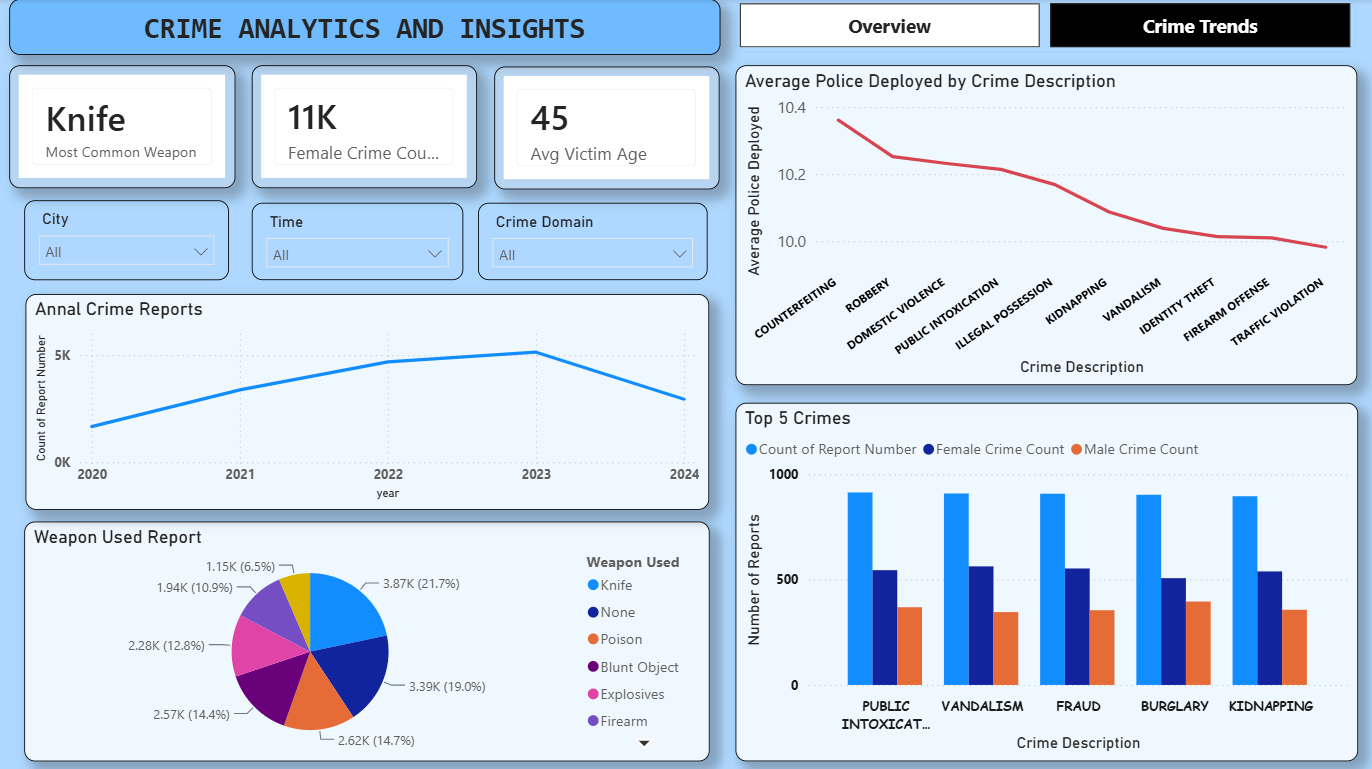

Layout of this report page (visuals, bound fields, positions):
{"tool":"powerbi","page":{"name":"Crime Trends","canvas":[1280,720],"ordinal":1},"visuals":[{"type":"pageNavigator","box":[686.4,0,577.2,49.7],"z":0},{"type":"textbox","box":[9.9,0,661.6,52.1],"z":1000},{"type":"cardVisual","fields":{"Data":["crime_dataset_india.Female Crime Count"]},"box":[273.1,62.1,237.1,109.2],"z":2000},{"type":"slicer","fields":{"Values":["crime_dataset_india.City"]},"box":[24.8,187.4,189.9,63.3],"z":3000},{"type":"cardVisual","fields":{"Data":["crime_dataset_india.Most Common Weapon"]},"box":[23.6,62.1,235.8,109.2],"z":4000},{"type":"clusteredColumnChart","title":"Top 5 Crimes ","fields":{"Category":["crime_dataset_india.Crime Description"],"Y":["CountNonNull(crime_dataset_india.Report Number)","crime_dataset_india.Female Crime Count","crime_dataset_india.Male Crime Count"]},"box":[686.2,378.2,579,308],"z":5000},{"type":"pieChart","title":"Weapon Used Report","fields":{"Category":["crime_dataset_india.Weapon Used"],"Y":["CountNonNull(crime_dataset_india.Report Number)"]},"box":[23.4,456.4,636.7,230.4],"z":6000},{"type":"lineChart","fields":{"Category":["crime_dataset_india.Crime Description"],"Y":["crime_dataset_india.Average Police Deployed"]},"box":[686.4,62.1,578.4,297.9],"z":7000},{"type":"slicer","fields":{"Values":["crime_dataset_india.Time Slot"]},"box":[214.7,189.9,218.5,67],"z":8000},{"type":"slicer","fields":{"Values":["crime_dataset_india.Crime Domain"]},"box":[433.2,189.9,227.2,72],"z":9000},{"type":"lineChart","fields":{"Category":["crime_dataset_india.year"],"Y":["CountNonNull(crime_dataset_india.Report Number)"]},"box":[23.6,261.9,636.8,177.5],"z":10000}]}

Visuals, with their boxes in screenshot pixels (x1, y1, x2, y2), scaled from the page's 1280x720 canvas onto the 1372x769 screenshot:
pageNavigator: <box>736,0,1354,53</box>
textbox: <box>11,0,720,56</box>
cardVisual - crime_dataset_india.Female Crime Count: <box>293,66,547,183</box>
slicer - crime_dataset_india.City: <box>27,200,230,268</box>
cardVisual - crime_dataset_india.Most Common Weapon: <box>25,66,278,183</box>
"Top 5 Crimes " clusteredColumnChart: <box>736,404,1356,733</box>
"Weapon Used Report" pieChart: <box>25,487,708,734</box>
lineChart - crime_dataset_india.Crime Description x crime_dataset_india.Average Police Deployed: <box>736,66,1356,384</box>
slicer - crime_dataset_india.Time Slot: <box>230,203,464,274</box>
slicer - crime_dataset_india.Crime Domain: <box>464,203,708,280</box>
lineChart - crime_dataset_india.year x CountNonNull(crime_dataset_india.Report Number): <box>25,280,708,469</box>
